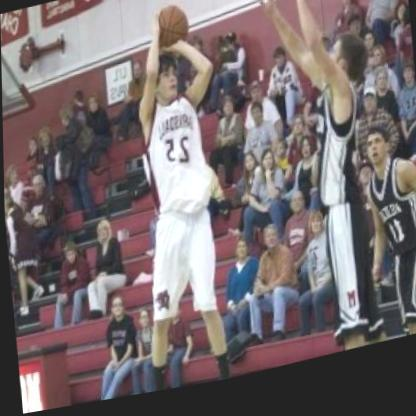basketball: (152, 5, 193, 56)
